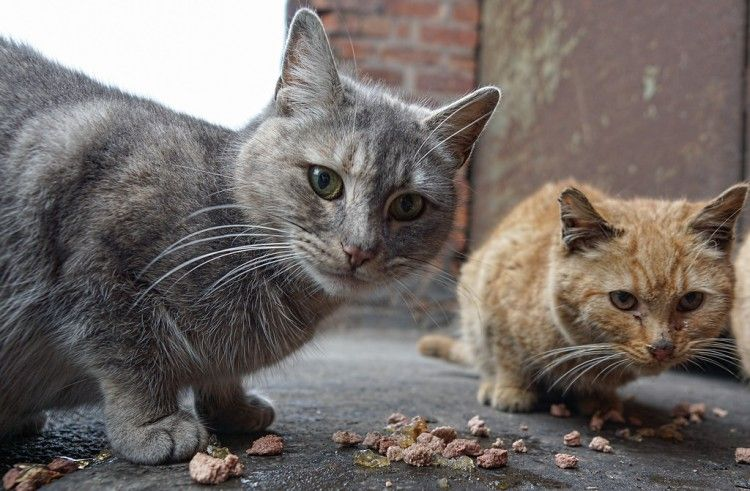cat: (1, 53, 519, 392), (463, 182, 750, 427)
